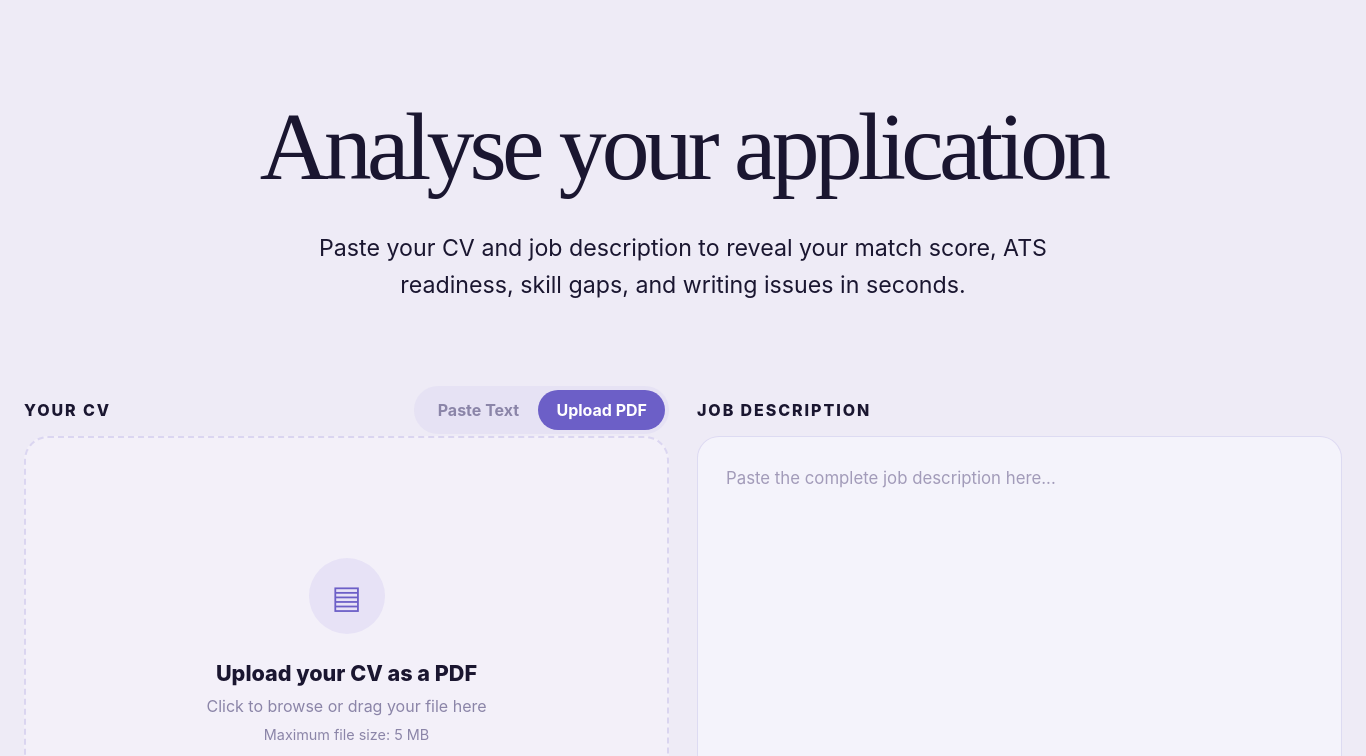
App › shows AI tailoring after text analysis
Click the button "Paste Text".
click(478, 410)  # box [418, 390, 538, 430]
(page scrolled)
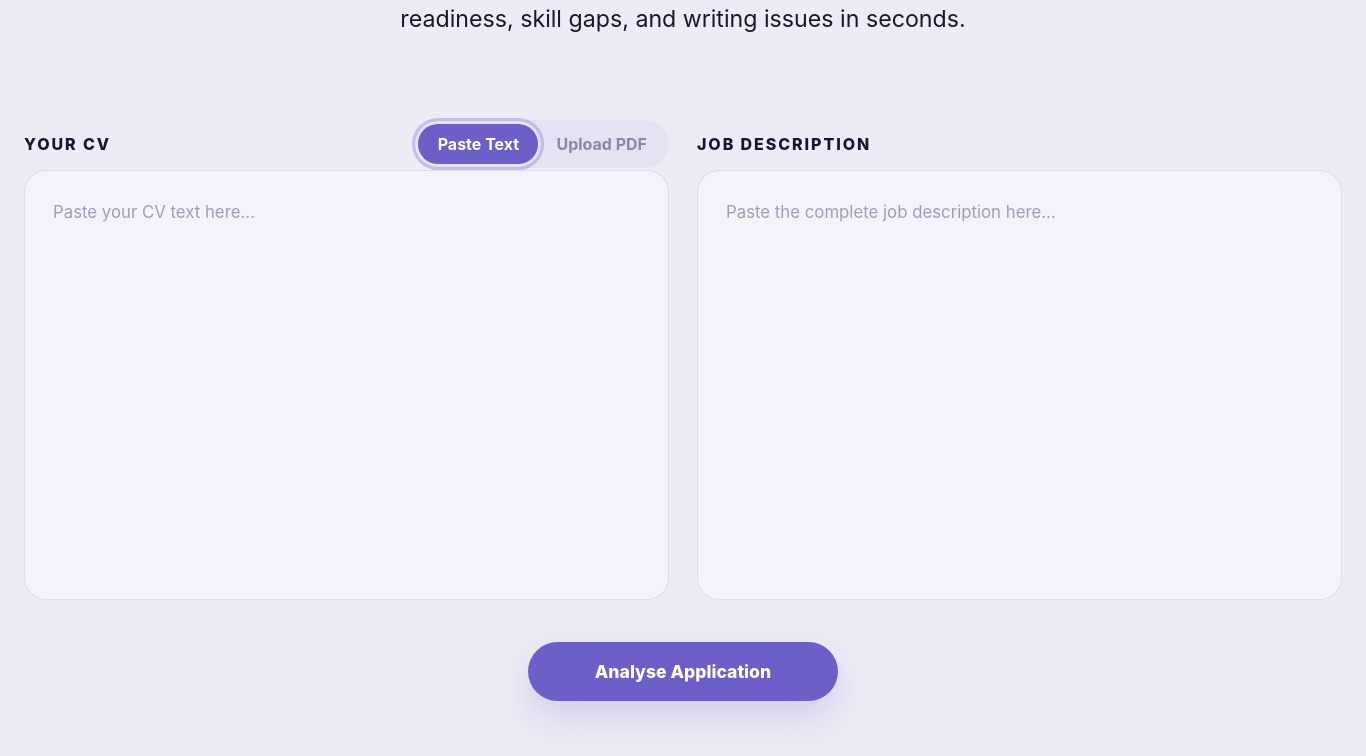
Type "Software Engineering graduate with React, TypeScript, FastAPI and PostgreSQL experience." into the text box labelled "Paste your CV text here...".
click(346, 385); type("Software Engineering graduate with React, TypeScript, FastAPI and PostgreSQL experience.")  # box [24, 170, 669, 600]
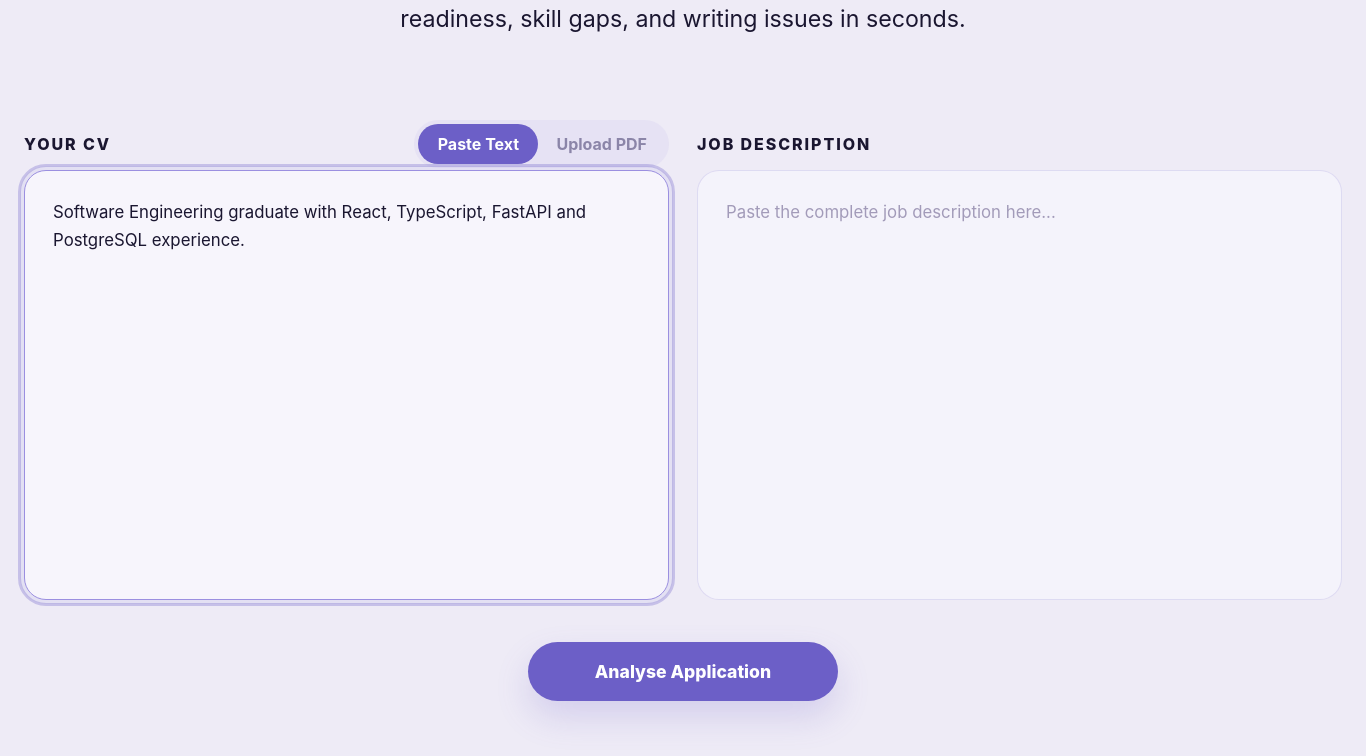
Type "We are hiring a Junior Full-Stack Developer with React, TypeScript and FastAPI experience." into the text box labelled "Paste the complete job description here...".
click(1020, 385); type("We are hiring a Junior Full-Stack Developer with React, TypeScript and FastAPI experience.")  # box [697, 170, 1342, 600]
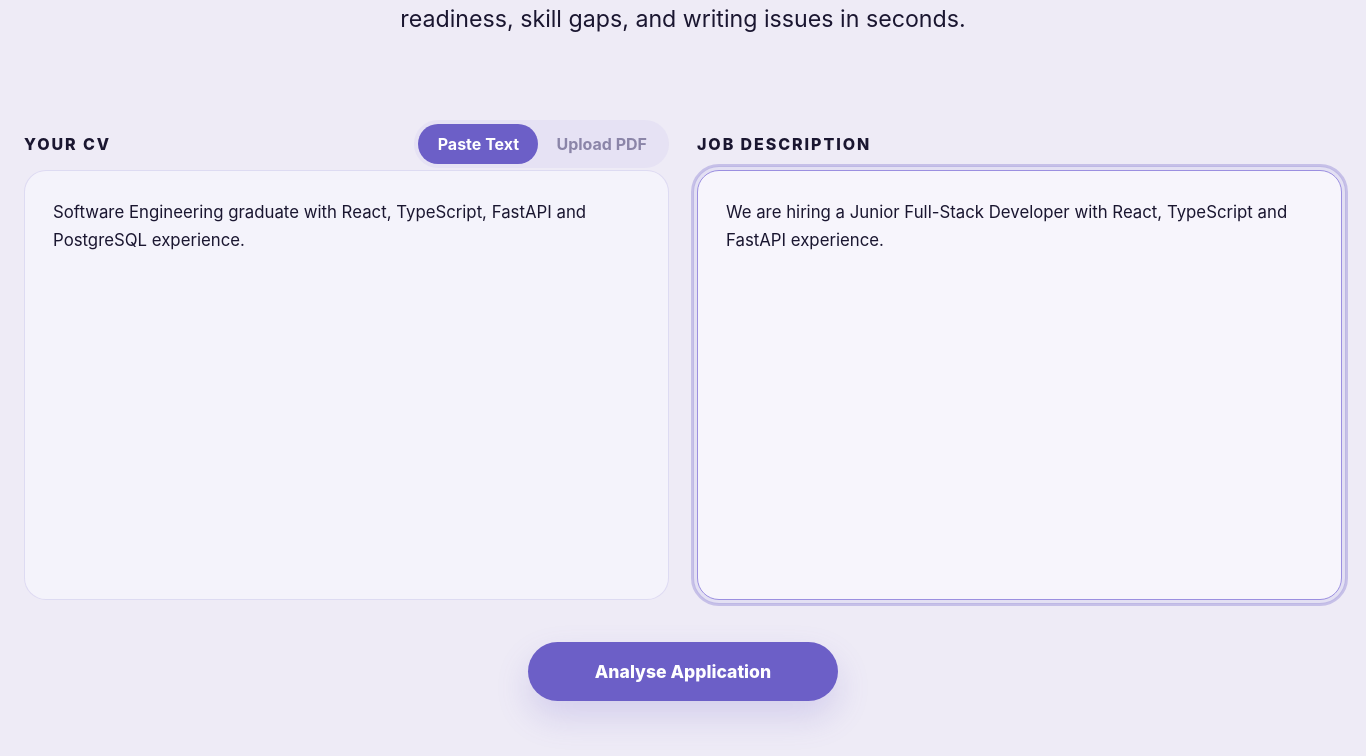
Click the button "Analyse Application".
click(683, 671)  # box [528, 642, 838, 701]
(page scrolled)
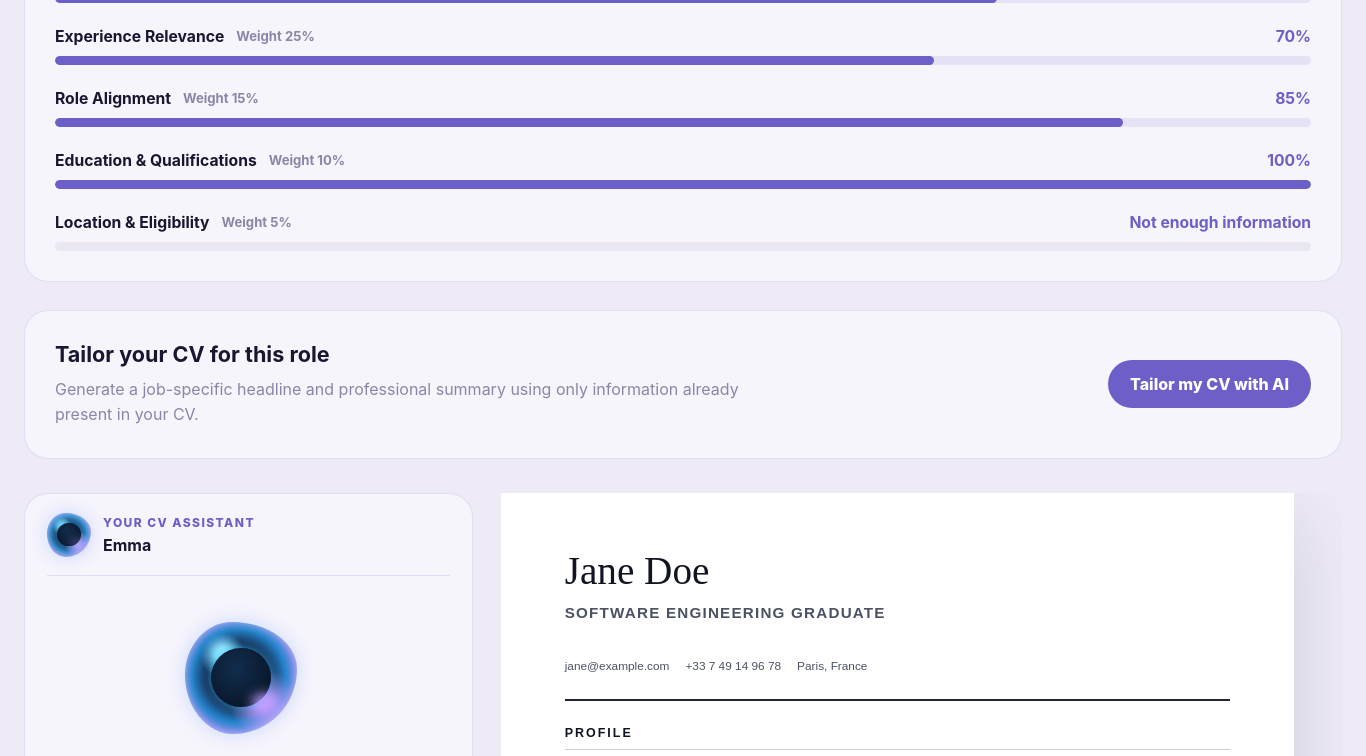
Expected: the button "Tailor my CV with AI" is shown, [1108, 360, 1311, 408]
